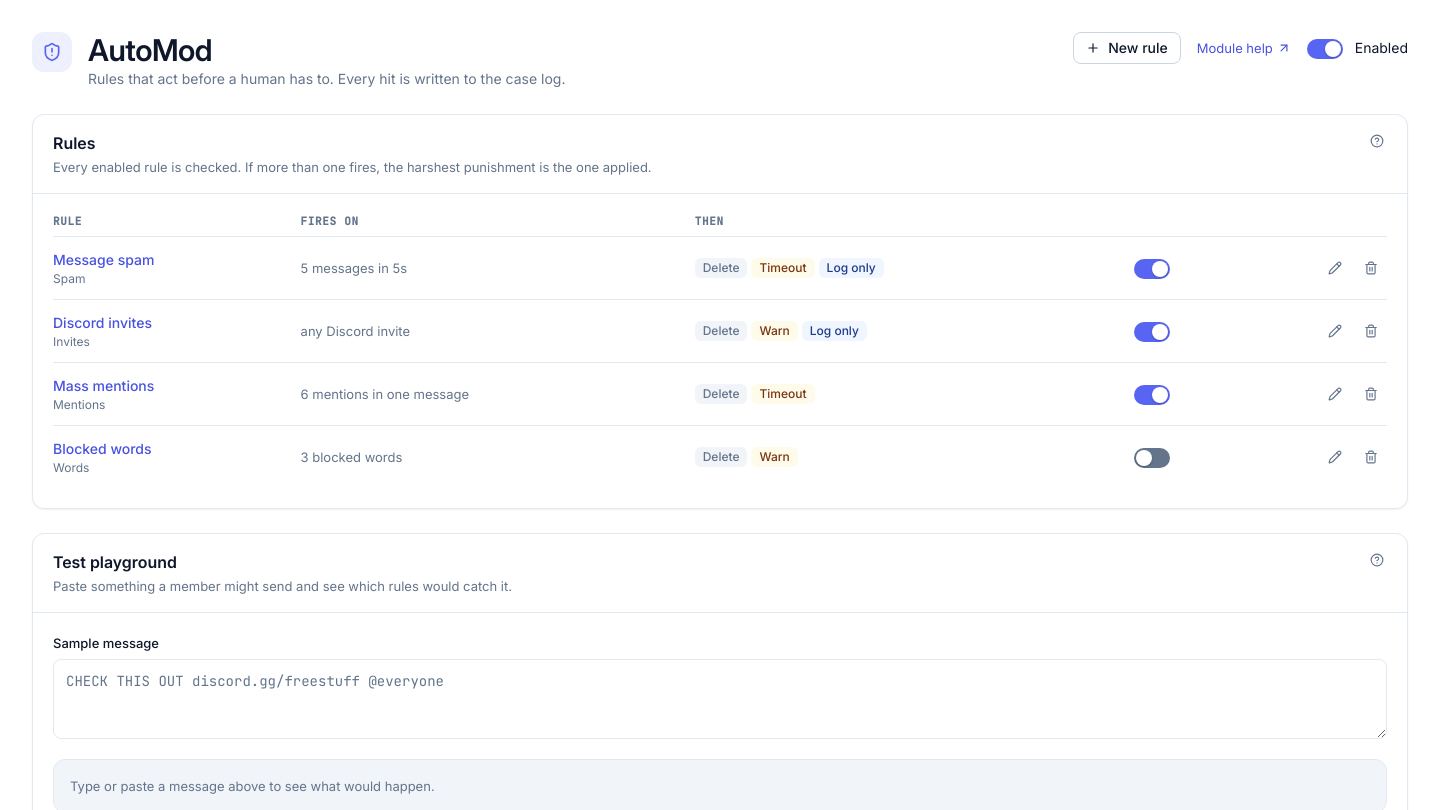
Test: the automod playground › starts reading once a message is actually typed
This screenshot has width=1440, height=810.
Type "oi" into the text box labelled "Sample message" at (720, 699), box 53,659 -> 1387,739
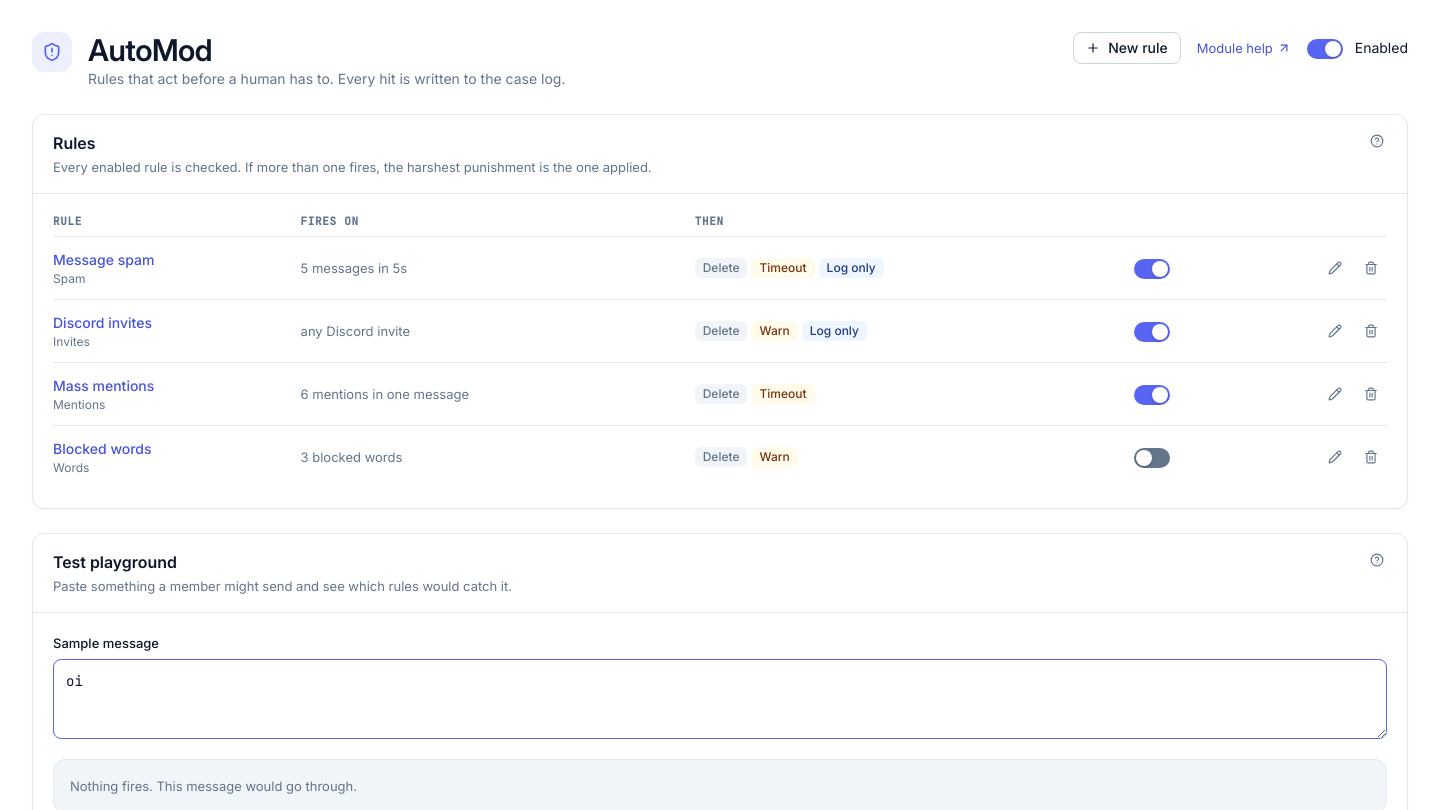
Now the text "Type or paste a message above to see what would happen." is gone
